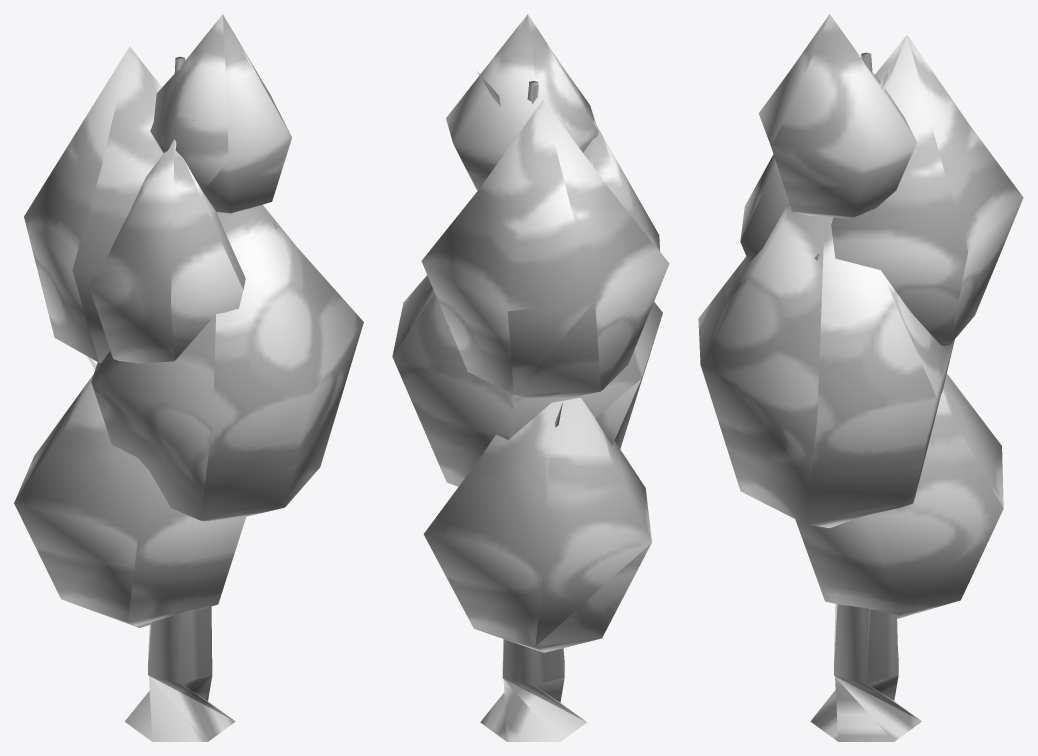
Rendered from tree_poplar_1.obj.
3 views of the same model, side by side, from view 1: azimuth 30°, elevation 25°; view 2: azimuth 150°, elevation 25°; view 3: azimuth 270°, elevation 25° (orthographic). The views are drawn at different scales.
Parts seen in each view (by area): view 1: source_component_011, source_component_010, source_component_012, source_component_014, source_component_013, source_component_000; view 2: source_component_012, source_component_010, source_component_011, source_component_013, source_component_000, source_component_014; view 3: source_component_011, source_component_012, source_component_010, source_component_013, source_component_000, source_component_014.
Part boxes in pixels (x1,y1,x2,y2): source_component_011: [91, 204, 363, 521]; source_component_010: [14, 374, 246, 627]; source_component_012: [24, 46, 277, 362]; source_component_014: [89, 139, 245, 363]; source_component_013: [150, 14, 291, 213]; source_component_000: [125, 56, 235, 741]; source_component_012: [421, 99, 669, 398]; source_component_010: [423, 397, 651, 652]; source_component_011: [392, 275, 662, 486]; source_component_013: [446, 14, 598, 190]; source_component_000: [480, 81, 586, 741]; source_component_014: [583, 120, 660, 251]; source_component_011: [698, 202, 954, 528]; source_component_012: [814, 35, 1023, 345]; source_component_010: [795, 373, 1003, 618]; source_component_013: [758, 14, 916, 218]; source_component_000: [810, 52, 921, 741]; source_component_014: [740, 154, 788, 262].
Bounding box in the file's own units: 0.4737 × 1.07 × 0.4363.
